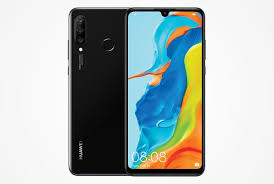huawei: (122, 2, 208, 178), (68, 6, 125, 178)
